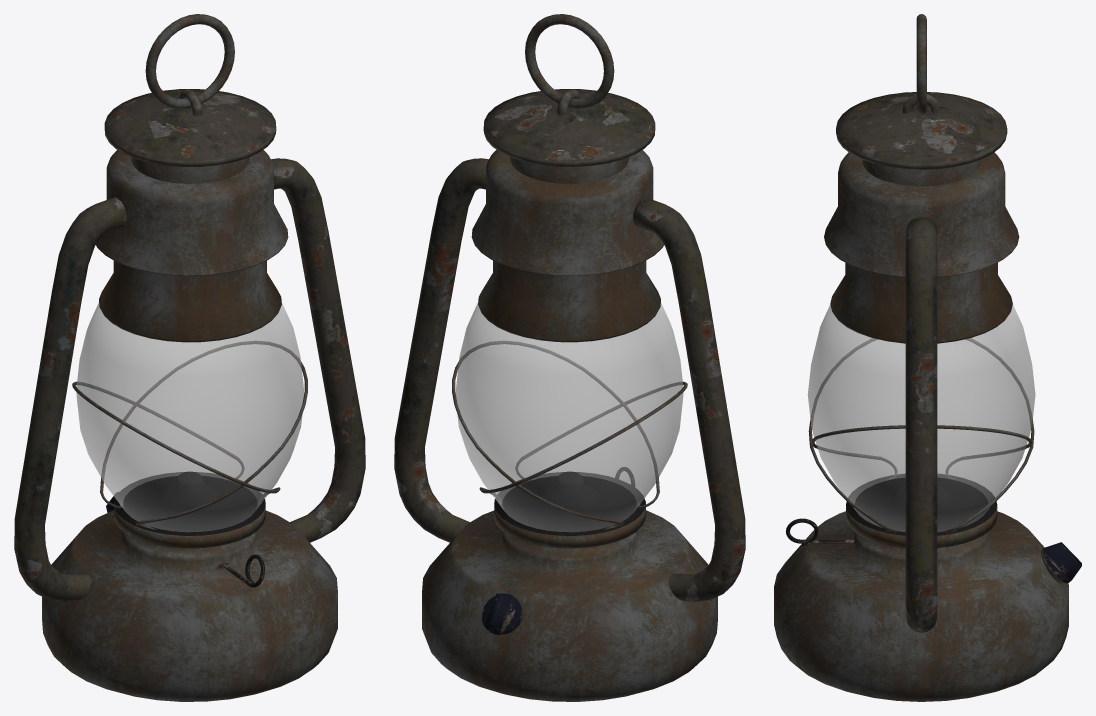
The model's file is obj_kerosene_lamp_e16617.glb.
3 views of the same model, side by side, from view 1: azimuth 30°, elevation 25°; view 2: azimuth 150°, elevation 25°; view 3: azimuth 270°, elevation 25° (orthographic).
Visible parts, largest first — view 1: obj_kerosene_lamp_e16617; view 2: obj_kerosene_lamp_e16617; view 3: obj_kerosene_lamp_e16617.
Boxes of the visible parts, box(x1,y1,x2,y2) form: obj_kerosene_lamp_e16617: box(14, 14, 365, 701); obj_kerosene_lamp_e16617: box(394, 14, 745, 701); obj_kerosene_lamp_e16617: box(774, 14, 1081, 701).
Size of the model in its own units: 0.2008 by 0.35 by 0.1548.
14 materials, 14 textured.
